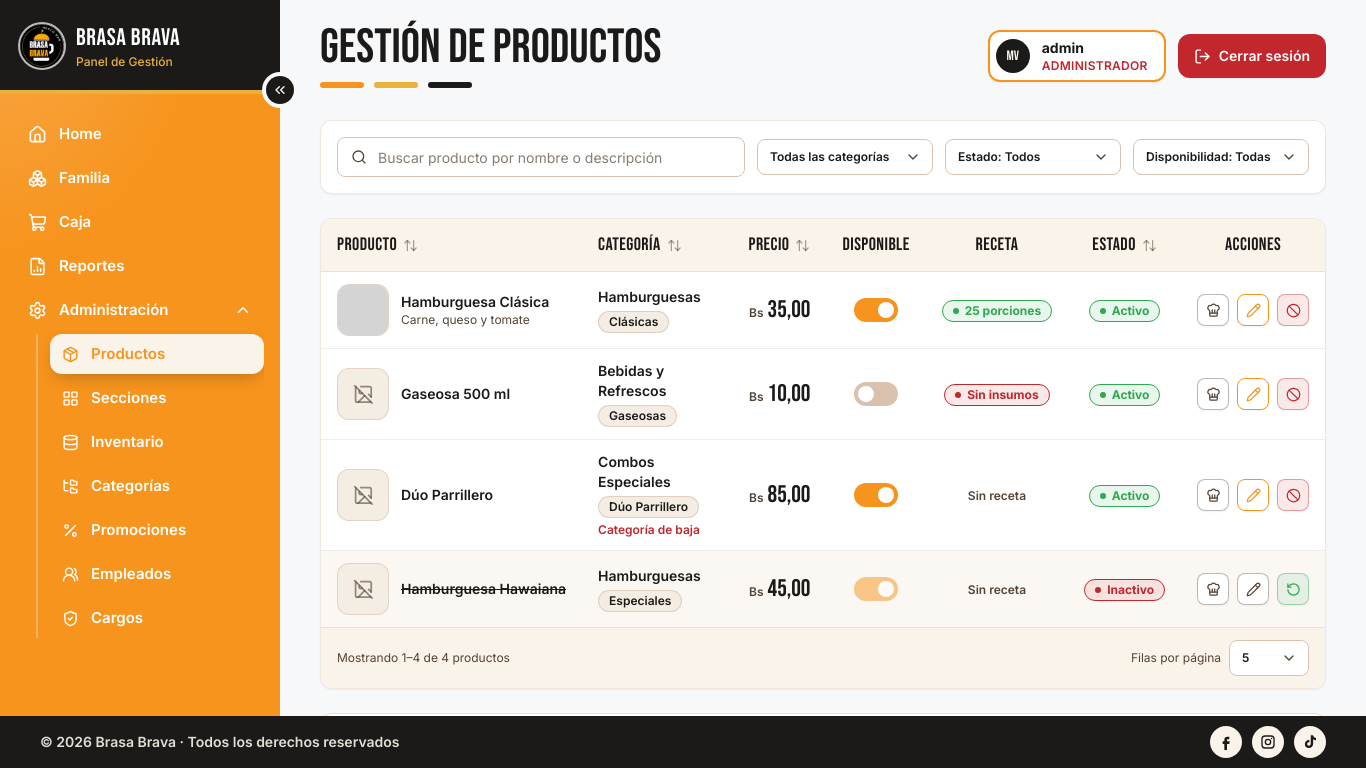
Test case: Gestión de productos › avisa si no se pudo cambiar la disponibilidad
Expected: the text "Hamburguesa Clásica" is shown, x1=401 y1=292 x2=549 y2=312
Step 1. Click the switch named "Gaseosa 500 ml disponible" → (876, 394), box x1=854 y1=382 x2=898 y2=406
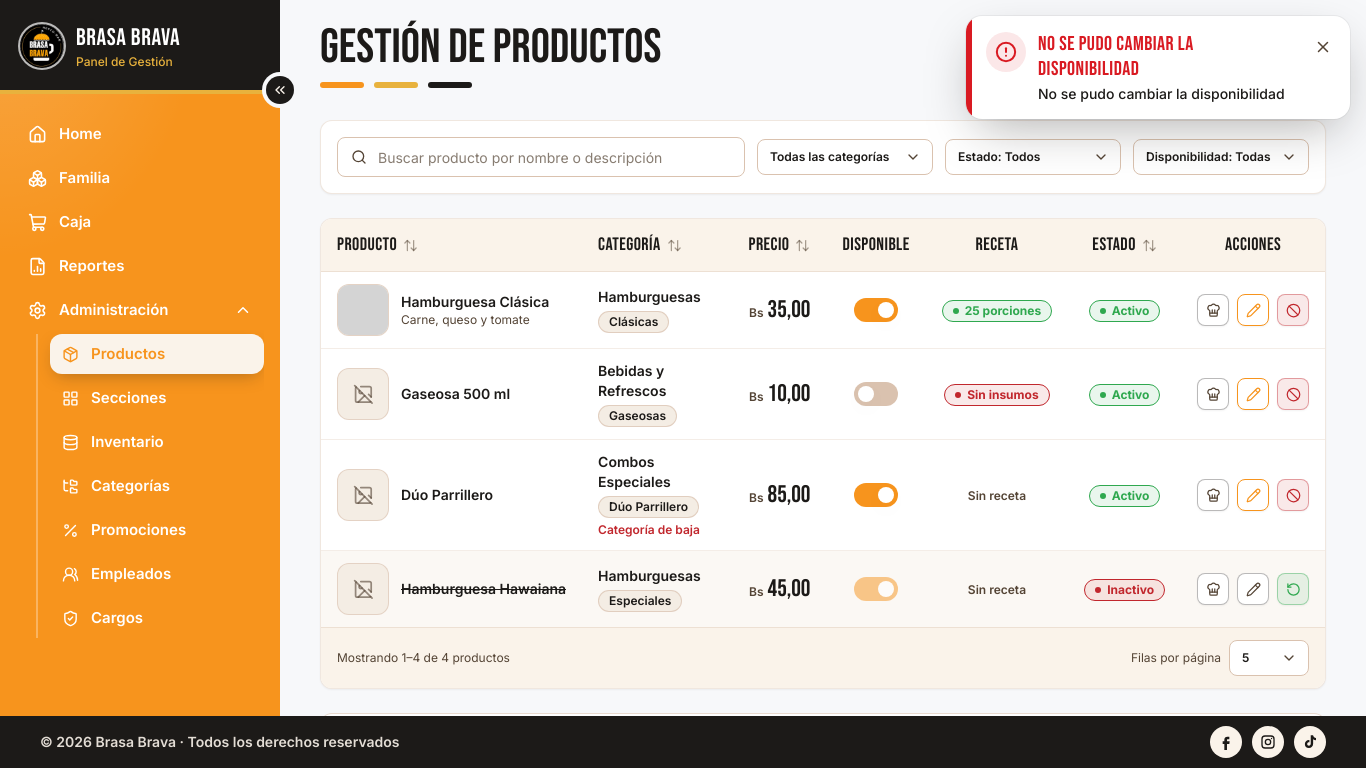
Expected: the message shows "No se pudo cambiar la disponibilidad", x1=1038 y1=32 x2=1194 y2=81
